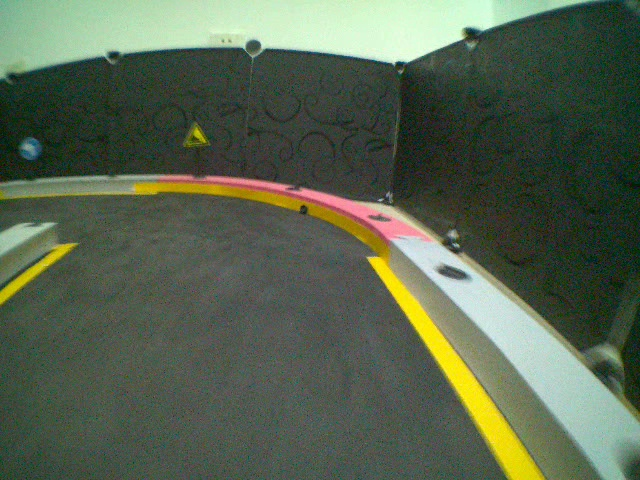fast: (182, 121, 211, 150)
